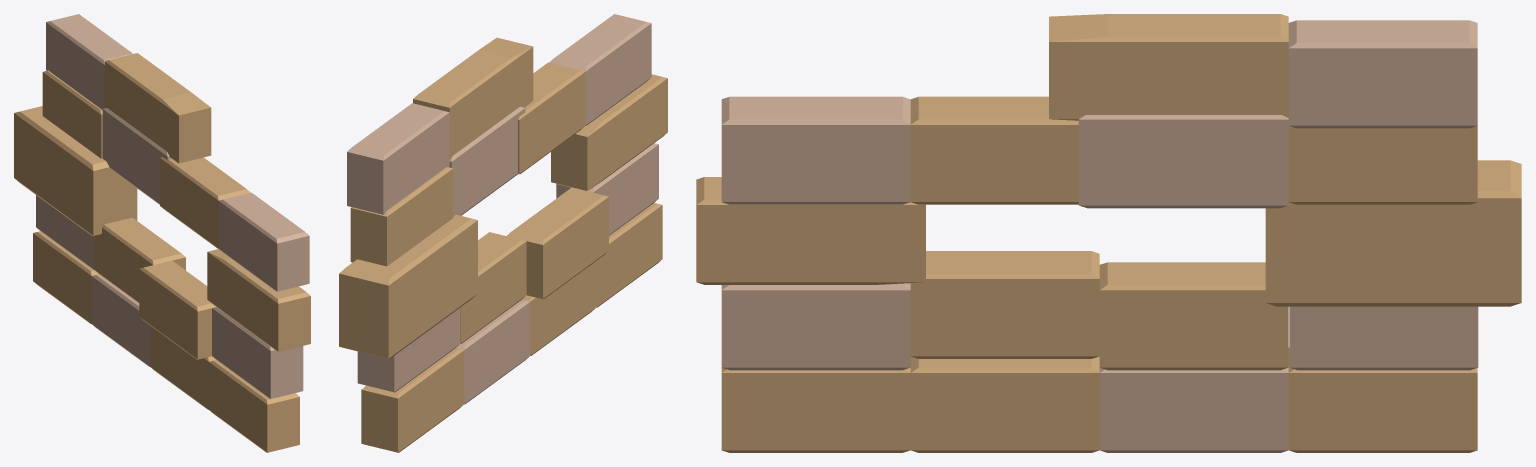
The model's file is muurtje.fbx.
The picture shows the model from 3 angles, left to right: view 1: azimuth 30°, elevation 25°; view 2: azimuth 150°, elevation 25°; view 3: azimuth 270°, elevation 25°; orthographic projection. The views are drawn at different scales.
Visible parts, largest first — view 1: Muurtje.002; view 2: Muurtje.002; view 3: Muurtje.002.
Part boxes in pixels (x1,y1,x2,y2): Muurtje.002: (14,14,310,452); Muurtje.002: (339,14,667,452); Muurtje.002: (696,14,1521,452).
Size of the model in its own units: 0.3408 by 1.48 by 2.6.
